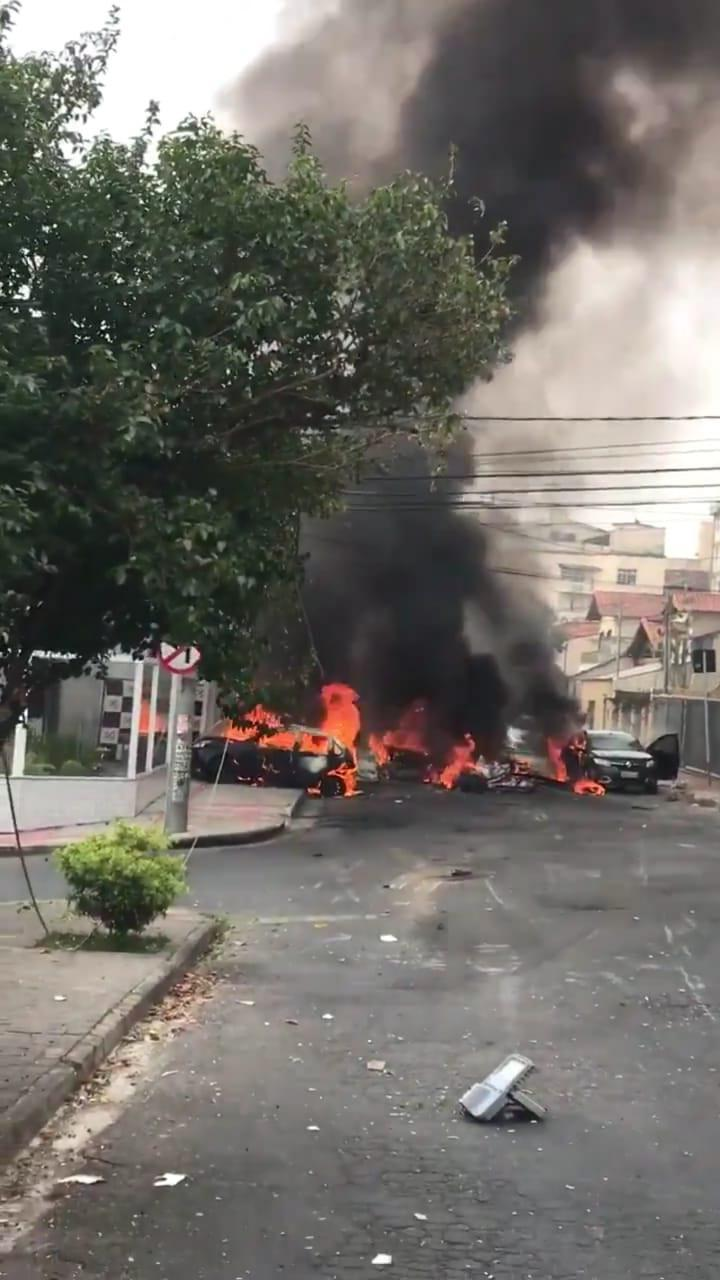Fire: (230, 682, 360, 795), (548, 738, 608, 800), (434, 737, 485, 791)
